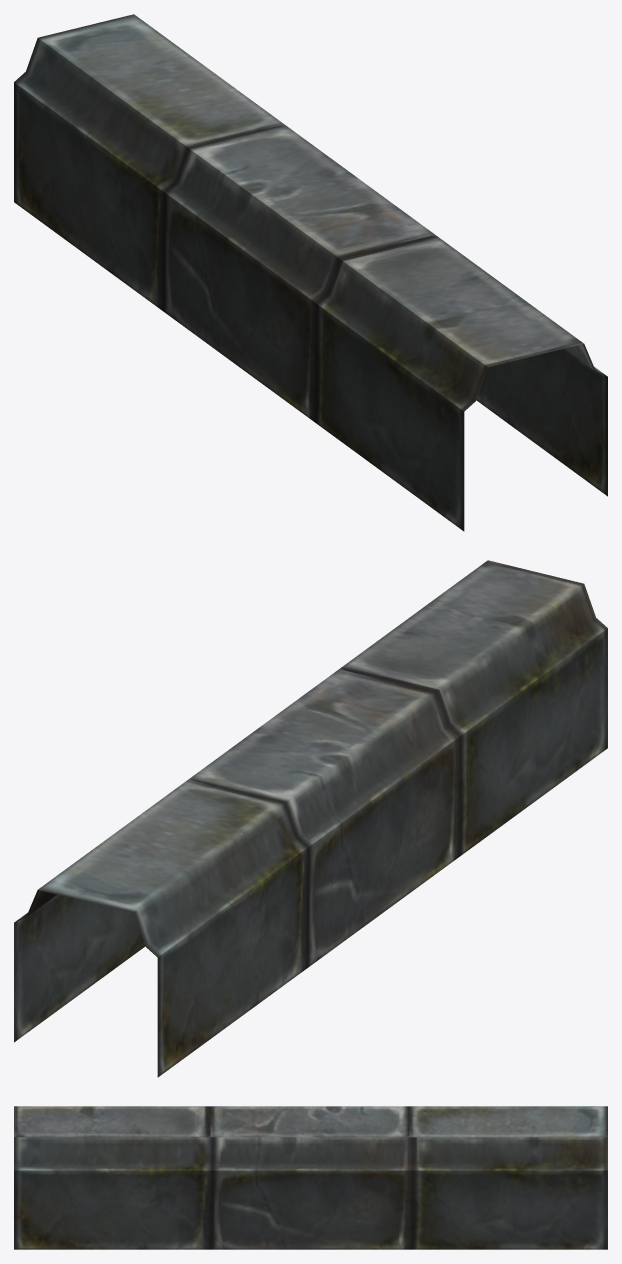
Rendered from F_fushou007.fbx.
The picture shows the model from 3 angles, top to bottom: view 1: azimuth 30°, elevation 25°; view 2: azimuth 150°, elevation 25°; view 3: azimuth 270°, elevation 25°; orthographic projection. The views are drawn at different scales.
Parts seen in each view (by area): view 1: F_fushou007; view 2: F_fushou007; view 3: F_fushou007.
Boxes of the visible parts, <box> form: F_fushou007: <box>14,14,607,531</box>; F_fushou007: <box>14,560,607,1077</box>; F_fushou007: <box>14,1106,607,1249</box>.
Size of the model in its own units: 28.97 by 30.56 by 157.
